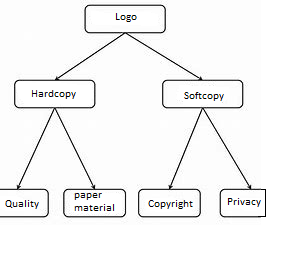arrow: (199, 106, 252, 190), (124, 30, 205, 80), (52, 31, 126, 81), (53, 106, 95, 190), (15, 106, 56, 191), (166, 108, 206, 191)
process: (159, 78, 244, 110), (13, 78, 97, 110), (82, 3, 166, 33), (136, 187, 203, 219), (61, 187, 126, 219), (0, 187, 50, 219), (218, 188, 268, 218)
text: (72, 190, 114, 211), (145, 198, 195, 210), (183, 88, 225, 101), (30, 88, 78, 99), (225, 195, 261, 207), (4, 197, 40, 208), (114, 11, 138, 23)
